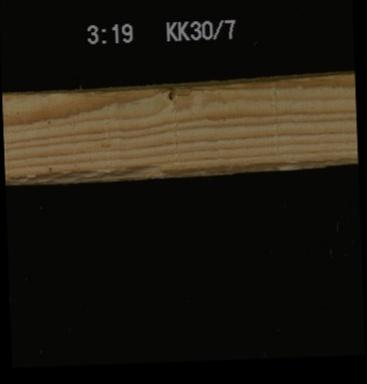dry_knot: (163, 85, 180, 102)
wave: (4, 152, 357, 182)
